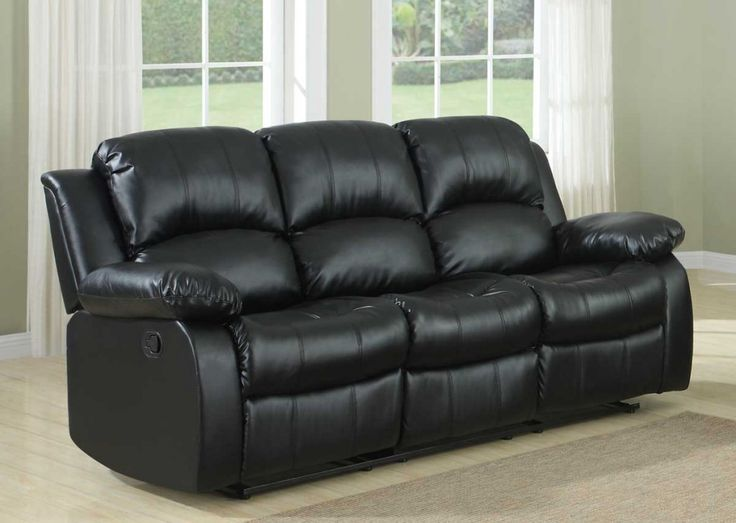chairs: (37, 114, 699, 503)
